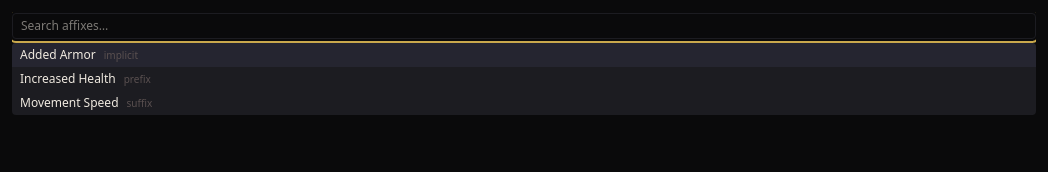
AffixPicker › typing filters affixes by name
Type "health" into the dropdown with placeholder "Search affixes…" at (524, 26), box [12, 13, 1036, 39]
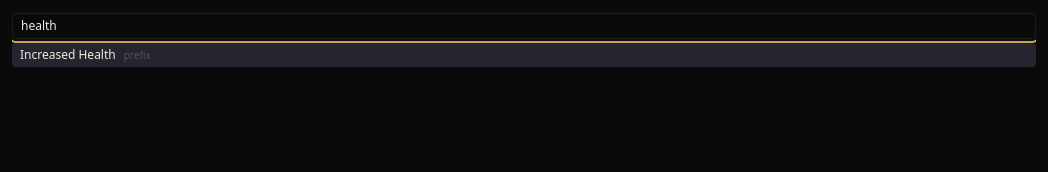
Expected: the text "Increased Health" is shown, [20, 46, 116, 63]
Expected: the option "Added Armor" is gone
Expected: the option "Movement Speed" is gone
